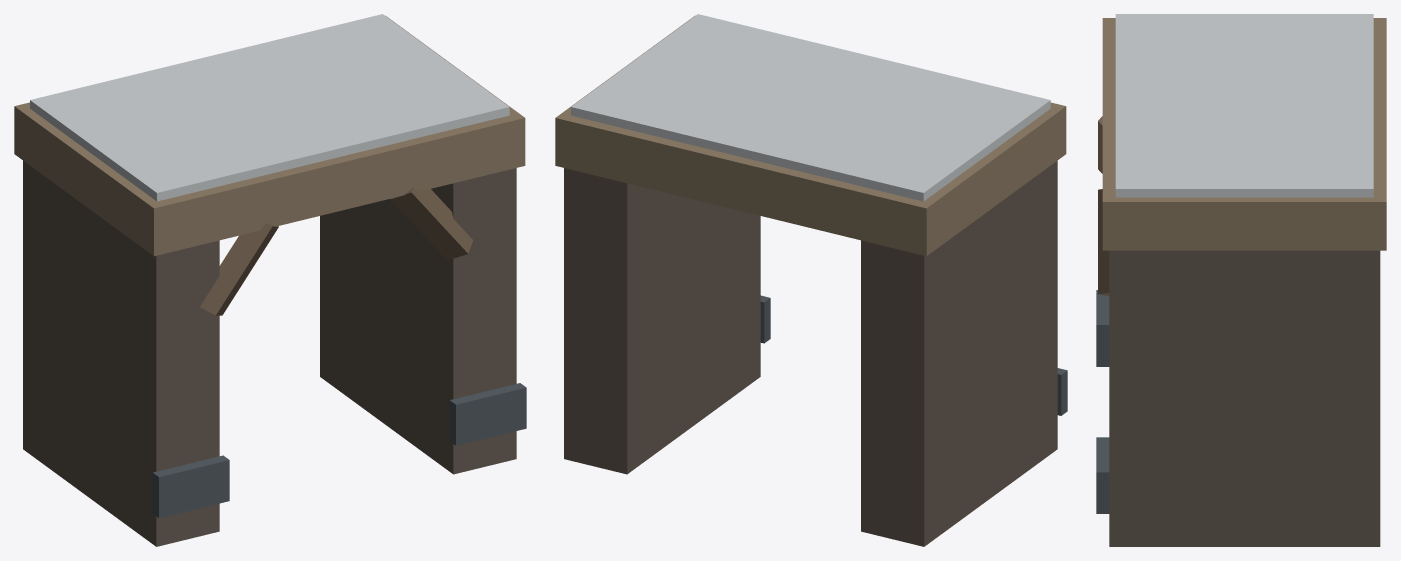
Rendered from mine_portal.glb.
3 renders of one model, left to right at view 1: azimuth 30°, elevation 25°; view 2: azimuth 150°, elevation 25°; view 3: azimuth 270°, elevation 25°, orthographic.
Parts seen in each view (by area): view 1: mine_portal; view 2: mine_portal; view 3: mine_portal.
Boxes of the visible parts, <box> form: mine_portal: <box>14,14,526,546</box>; mine_portal: <box>555,14,1067,546</box>; mine_portal: <box>1096,14,1386,546</box>.
Bounding box in the file's own units: 2.88 × 2.6 × 1.92.
